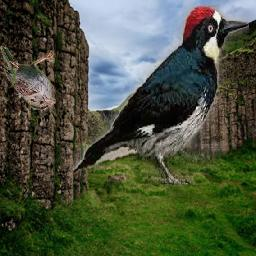Sparrow: (0, 46, 56, 111)
Woodpecker: (73, 5, 249, 185)
